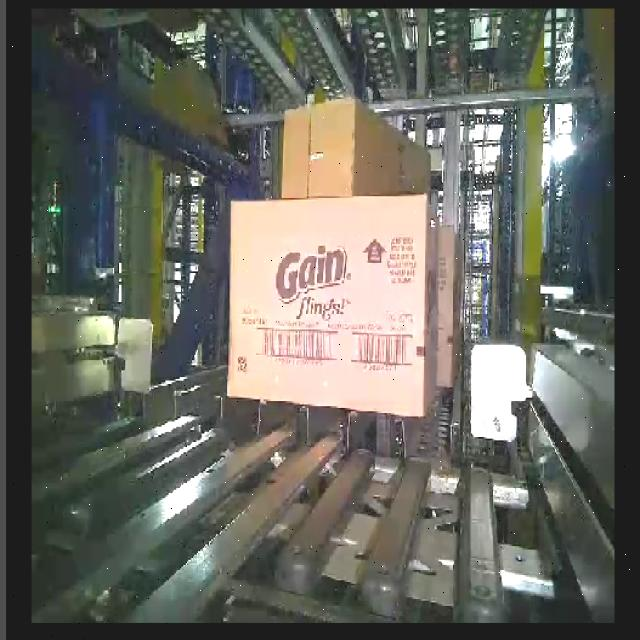box: (228, 192, 428, 418)
